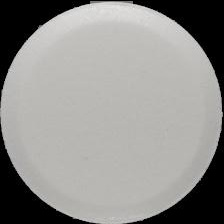51285-690: (0, 0, 224, 224)
